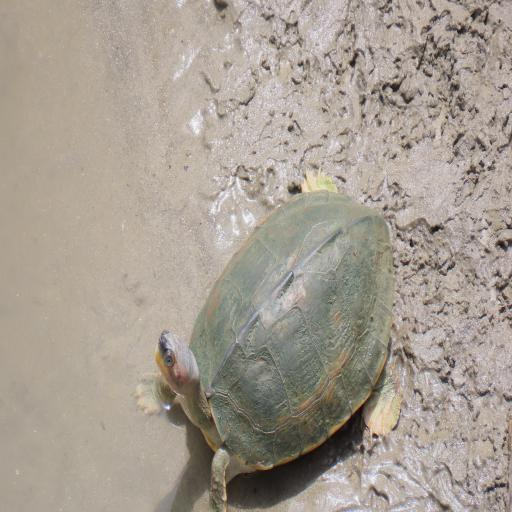turtle: (134, 160, 418, 512)
